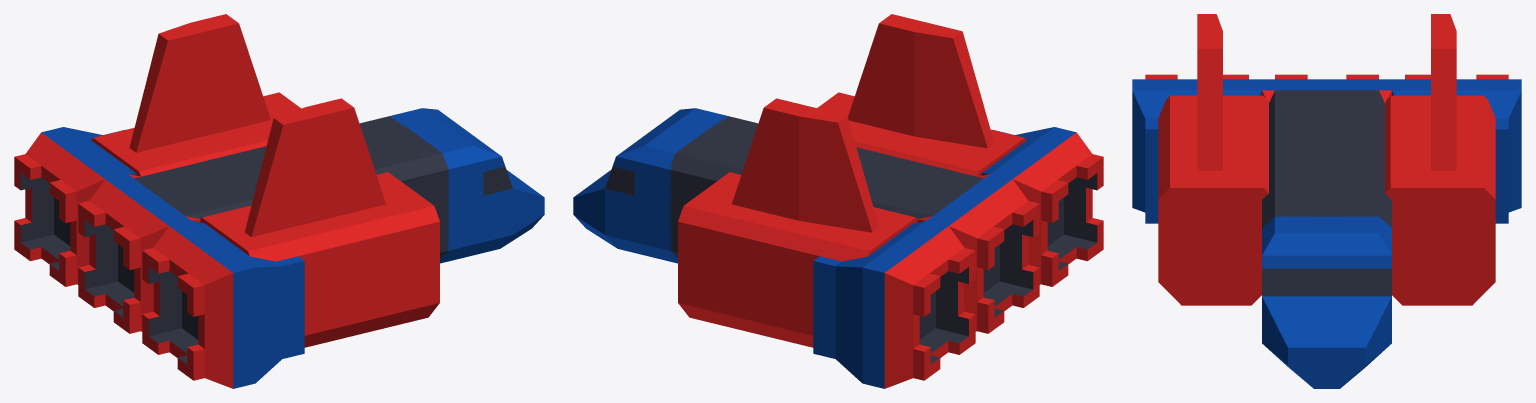
Rendered from Enemy2.fbx.
The picture shows the model from 3 angles, left to right: view 1: azimuth 30°, elevation 25°; view 2: azimuth 150°, elevation 25°; view 3: azimuth 270°, elevation 25°; orthographic projection.
Visible parts, largest first — view 1: engine_turbineSquare (×3), hull_body (×3), wing_point (×2), hull_cockpitNose; view 2: engine_turbineSquare (×3), hull_body (×3), wing_point (×2), hull_cockpitNose; view 3: hull_body (×3), hull_cockpitNose, engine_turbineSquare (×3), wing_point (×2).
Part boxes in pixels (<box>): engine_turbineSquare (×3): <box>14,127,304,388</box>; hull_body (×3): <box>91,92,448,347</box>; wing_point (×2): <box>129,14,385,237</box>; hull_cockpitNose: <box>389,108,544,263</box>; engine_turbineSquare (×3): <box>813,127,1103,388</box>; hull_body (×3): <box>669,92,1026,347</box>; wing_point (×2): <box>732,14,994,232</box>; hull_cockpitNose: <box>573,108,728,263</box>; hull_body (×3): <box>1158,90,1495,305</box>; hull_cockpitNose: <box>1262,216,1391,388</box>; engine_turbineSquare (×3): <box>1132,74,1521,223</box>; wing_point (×2): <box>1197,14,1456,170</box>.
Size of the model in its own units: 38 by 19 by 30.
